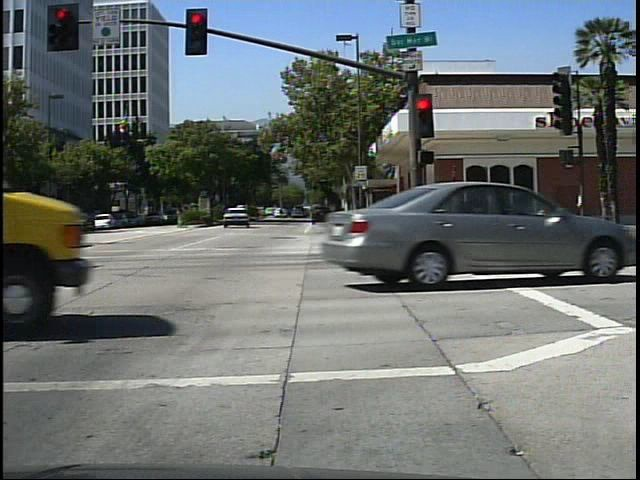person: (276, 204, 289, 222)
